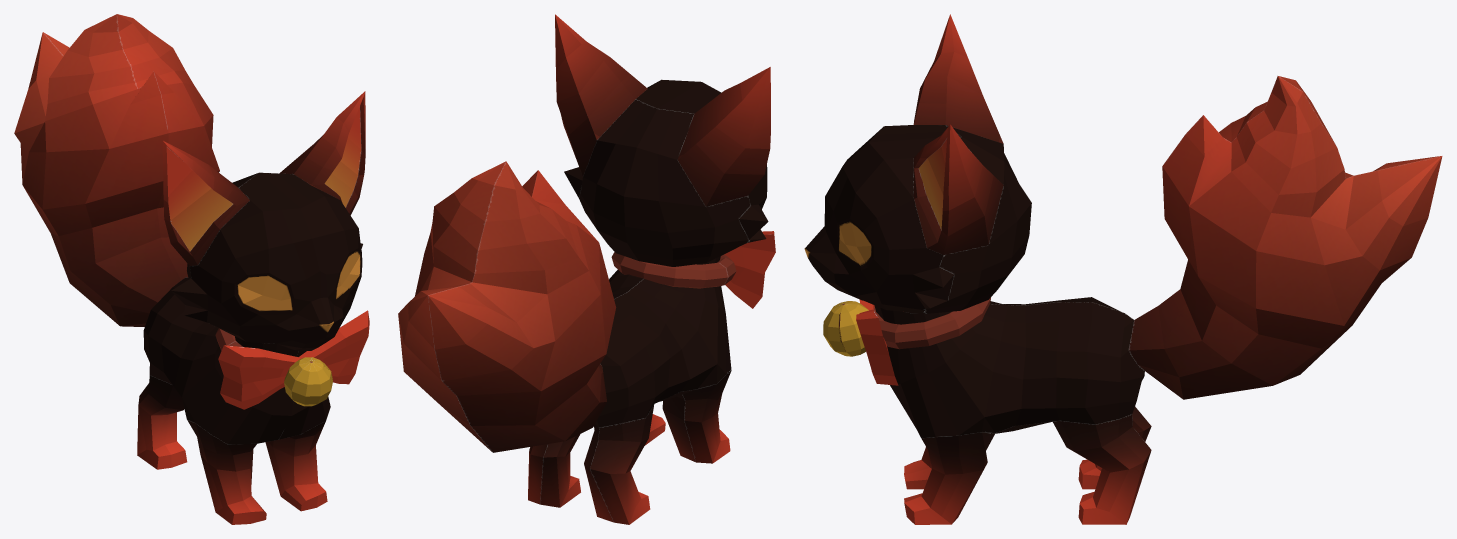
The model's file is Firecat_monster.fbx.
The picture shows the model from 3 angles, left to right: view 1: azimuth 30°, elevation 25°; view 2: azimuth 150°, elevation 25°; view 3: azimuth 270°, elevation 25°; orthographic projection. The views are drawn at different scales.
Parts seen in each view (by area): view 1: Firecat_monster; view 2: Firecat_monster; view 3: Firecat_monster.
Part boxes in pixels (x1=…): Firecat_monster: x1=14, y1=14, x2=369, y2=524; Firecat_monster: x1=398, y1=14, x2=775, y2=524; Firecat_monster: x1=804, y1=14, x2=1442, y2=524.
Bounding box in the file's own units: 122 × 222 × 299.
